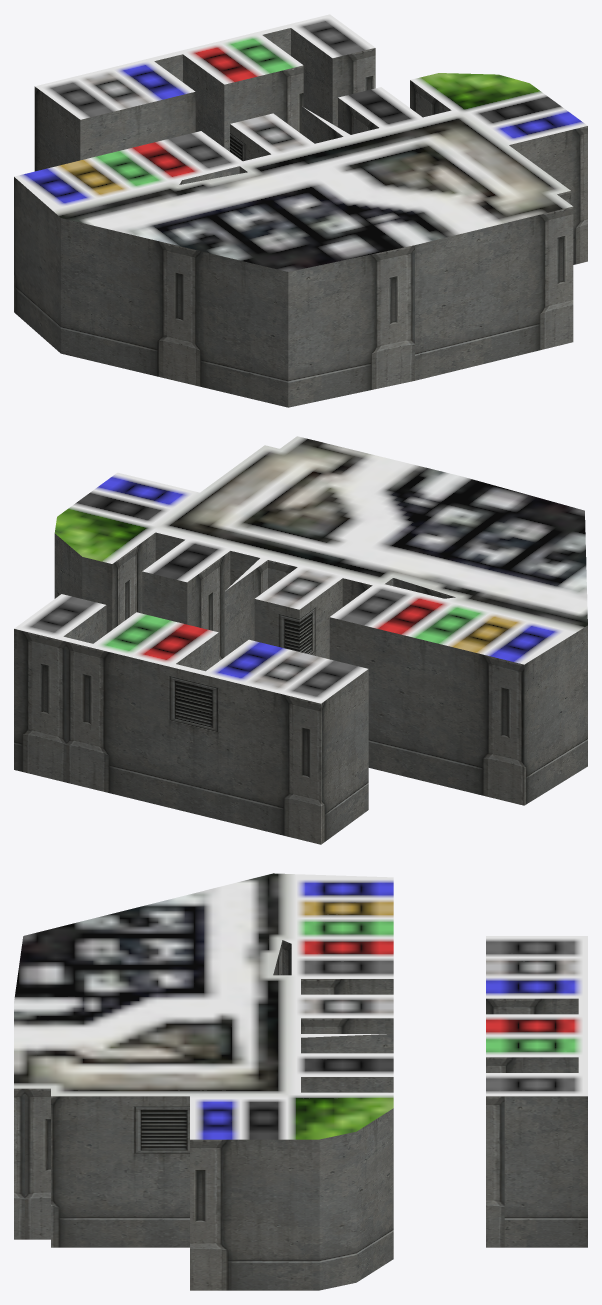
File: BuildingSystem-03-Advance-04-ReinforcedLow-K-108-03.glb
The picture shows the model from 3 angles, top to bottom: view 1: azimuth 30°, elevation 25°; view 2: azimuth 150°, elevation 25°; view 3: azimuth 270°, elevation 25°; orthographic projection. The views are drawn at different scales.
Visible parts, largest first — view 1: buildings/saxarba/SMV_Buildings/BuildingSystem-03-Advance-04; view 2: buildings/saxarba/SMV_Buildings/BuildingSystem-03-Advance-04; view 3: buildings/saxarba/SMV_Buildings/BuildingSystem-03-Advance-04.
Part boxes in pixels (x1,y1,x2,y2): buildings/saxarba/SMV_Buildings/BuildingSystem-03-Advance-04: (14,14,587,407); buildings/saxarba/SMV_Buildings/BuildingSystem-03-Advance-04: (14,436,587,844); buildings/saxarba/SMV_Buildings/BuildingSystem-03-Advance-04: (14,873,587,1290).
Size of the model in its own units: 68 by 18 by 62.
